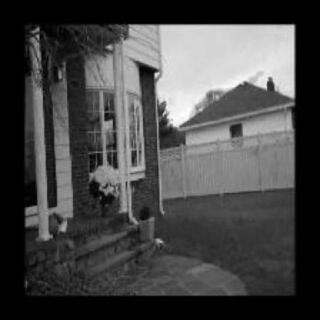other: (87, 157, 130, 211), (43, 202, 75, 245)
